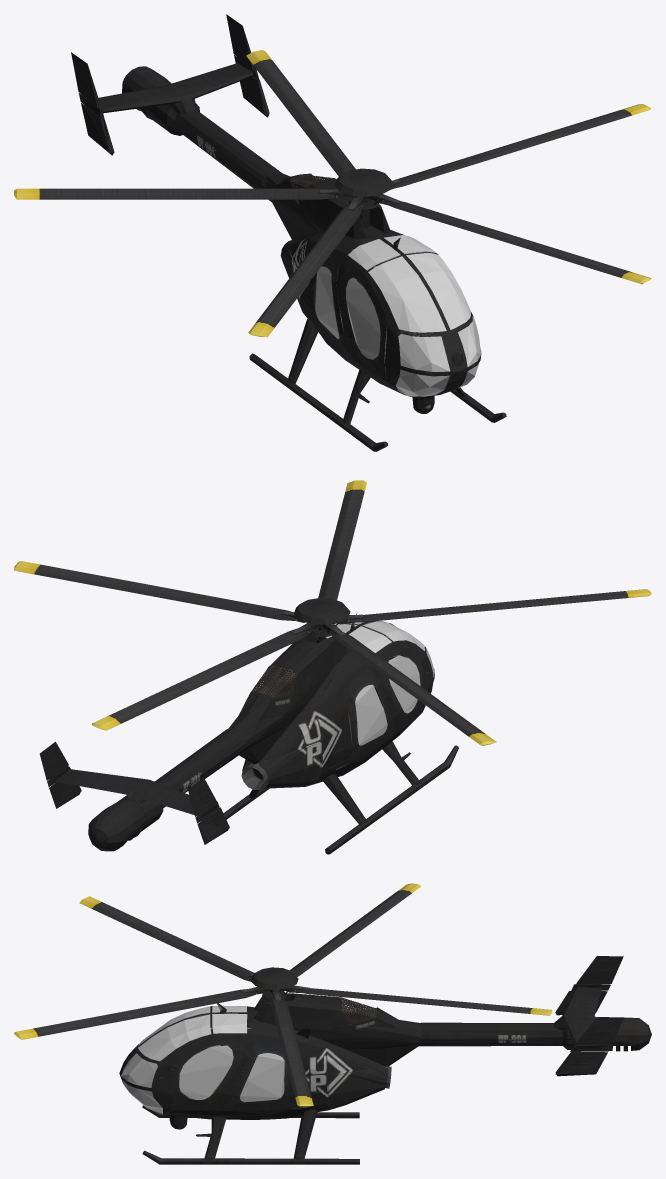
File: Rogue Assassin.obj
3 views of the same model, one above another, from view 1: azimuth 30°, elevation 25°; view 2: azimuth 150°, elevation 25°; view 3: azimuth 270°, elevation 25° (orthographic). The views are drawn at different scales.
Visible parts, largest first — view 1: DrawCall_1727, DrawCall_1735, DrawCall_1949, DrawCall_1733, DrawCall_1950, DrawCall_1728, DrawCall_1726, DrawCall_1730, DrawCall_1952, DrawCall_1734; view 2: DrawCall_1727, DrawCall_1735, DrawCall_1733, DrawCall_1734, DrawCall_1732, DrawCall_1730, DrawCall_1952, DrawCall_1949, DrawCall_1726, DrawCall_1728, DrawCall_1861, DrawCall_1950; view 3: DrawCall_1727, DrawCall_1735, DrawCall_1733, DrawCall_1949, DrawCall_1953, DrawCall_1731, DrawCall_1732, DrawCall_1951, DrawCall_1729, DrawCall_1734, DrawCall_1726, DrawCall_1861.
Part boxes in pixels (box(x1,y1,x2,y2)): DrawCall_1727: box(75, 14, 506, 451); DrawCall_1735: box(14, 50, 651, 337); DrawCall_1949: box(348, 235, 480, 396); DrawCall_1733: box(71, 22, 281, 188); DrawCall_1950: box(346, 277, 380, 359); DrawCall_1728: box(340, 266, 387, 381); DrawCall_1726: box(334, 168, 393, 228); DrawCall_1730: box(312, 253, 351, 357); DrawCall_1952: box(315, 266, 339, 338); DrawCall_1734: box(122, 66, 171, 119); DrawCall_1727: box(39, 613, 458, 854); DrawCall_1735: box(14, 480, 651, 745); DrawCall_1733: box(47, 728, 246, 844); DrawCall_1734: box(88, 799, 145, 851); DrawCall_1732: box(242, 742, 321, 788); DrawCall_1730: box(346, 669, 393, 761); DrawCall_1952: box(355, 685, 387, 745); DrawCall_1949: box(325, 621, 434, 677); DrawCall_1726: box(294, 598, 350, 642); DrawCall_1728: box(381, 645, 423, 728); DrawCall_1861: box(251, 665, 296, 698); DrawCall_1950: box(388, 655, 420, 713); DrawCall_1727: box(119, 956, 623, 1164); DrawCall_1735: box(14, 883, 552, 1106); DrawCall_1733: box(421, 962, 623, 1074); DrawCall_1949: box(121, 1005, 247, 1113); DrawCall_1953: box(179, 1045, 233, 1099); DrawCall_1731: box(172, 1036, 242, 1110); DrawCall_1732: box(328, 1066, 388, 1110); DrawCall_1951: box(240, 1053, 284, 1102); DrawCall_1729: box(225, 1041, 291, 1110); DrawCall_1734: box(602, 1017, 651, 1051); DrawCall_1726: box(250, 967, 298, 1002); DrawCall_1861: box(341, 997, 377, 1024).
Bounding box in the file's own units: 9.4 × 3.3 × 11.37.
